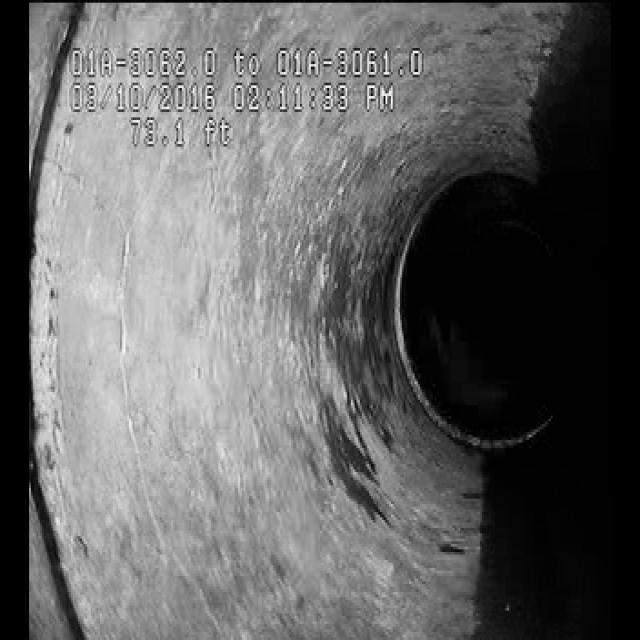Crack: (82, 182, 192, 566)
